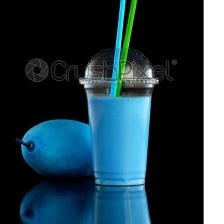drinking_straw: (114, 0, 138, 99), (107, 0, 126, 98)
glass: (73, 41, 168, 192)
